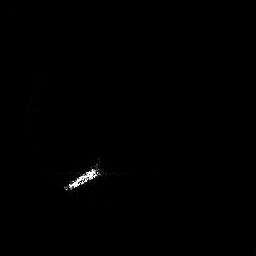ship: (62, 157, 105, 192)
